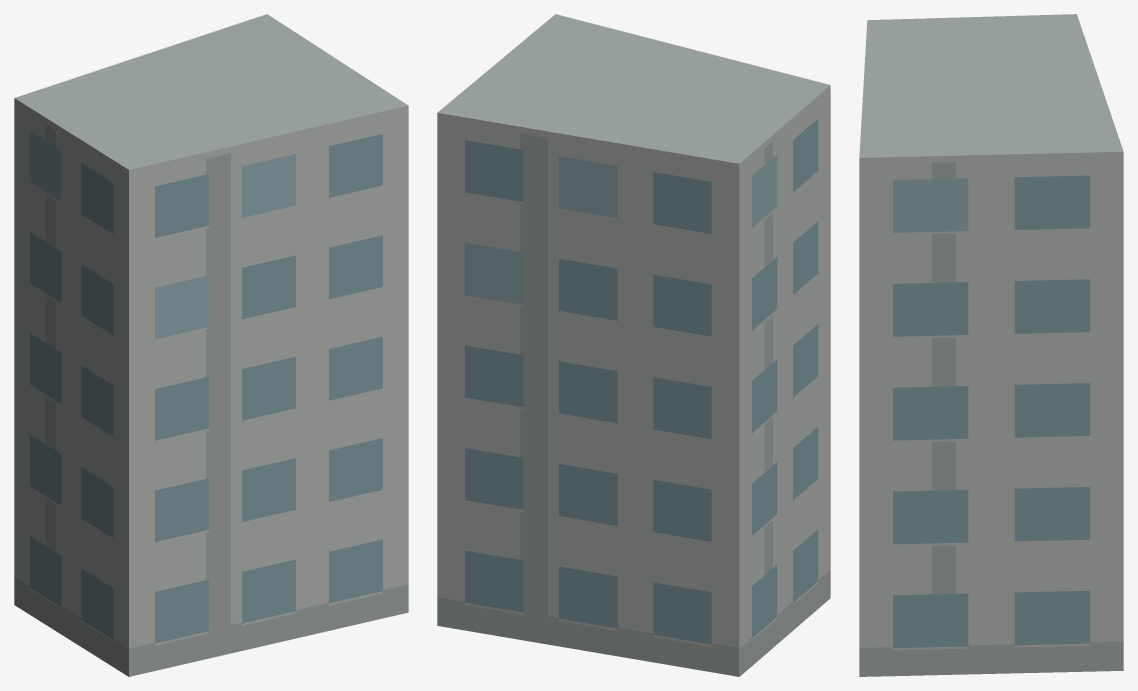
Rendered from survey-upis-32487437.glb.
The picture shows the model from 3 angles, left to right: view 1: azimuth 30°, elevation 25°; view 2: azimuth 150°, elevation 25°; view 3: azimuth 270°, elevation 25°; orthographic projection. The views are drawn at different scales.
Parts seen in each view (by area): view 1: survey-upis-32487437.tmp; view 2: survey-upis-32487437.tmp; view 3: survey-upis-32487437.tmp.
Part boxes in pixels (x1=…): survey-upis-32487437.tmp: x1=14, y1=14, x2=408, y2=676; survey-upis-32487437.tmp: x1=437, y1=14, x2=830, y2=676; survey-upis-32487437.tmp: x1=859, y1=14, x2=1123, y2=676.
Size of the model in its own units: 11.13 by 18.7 by 8.64.
